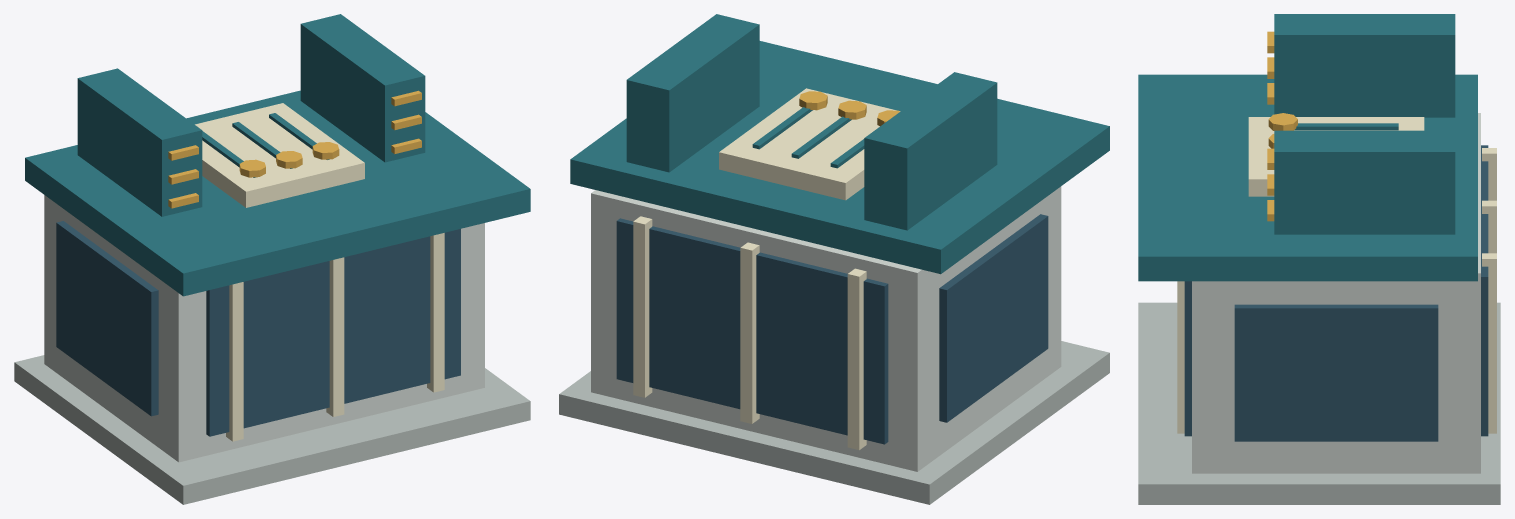
The model's file is company-court.glb.
3 renders of one model, left to right at view 1: azimuth 30°, elevation 25°; view 2: azimuth 150°, elevation 25°; view 3: azimuth 270°, elevation 25°, orthographic. The views are drawn at different scales.
Visible parts, largest first — view 1: company_cloud_court_mesh; view 2: company_cloud_court_mesh; view 3: company_cloud_court_mesh.
Boxes of the visible parts, x1,y1,x2,y2 form: company_cloud_court_mesh: (14, 14, 530, 504); company_cloud_court_mesh: (559, 14, 1109, 504); company_cloud_court_mesh: (1138, 14, 1500, 504).
Bounding box in the file's own units: 3.8 × 3.22 × 3.2.
